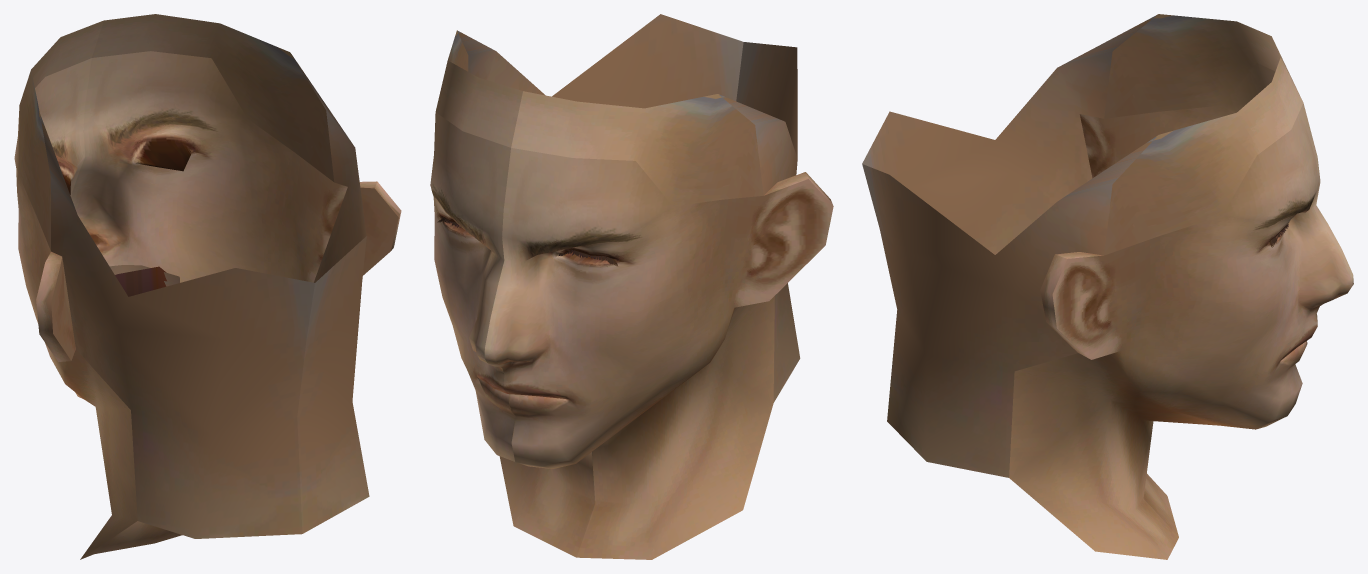
The picture shows the model from 3 angles, left to right: view 1: azimuth 30°, elevation 25°; view 2: azimuth 150°, elevation 25°; view 3: azimuth 270°, elevation 25°; orthographic projection. The views are drawn at different scales.
Parts seen in each view (by area): view 1: m_head; view 2: m_head; view 3: m_head.
Part boxes in pixels (x1,y1,x2,y2): m_head: [14, 14, 401, 559]; m_head: [430, 14, 833, 559]; m_head: [862, 14, 1353, 559].
Size of the model in its own units: 16.82 by 21.34 by 19.82.
Materials: 1 (1 with a texture image).
